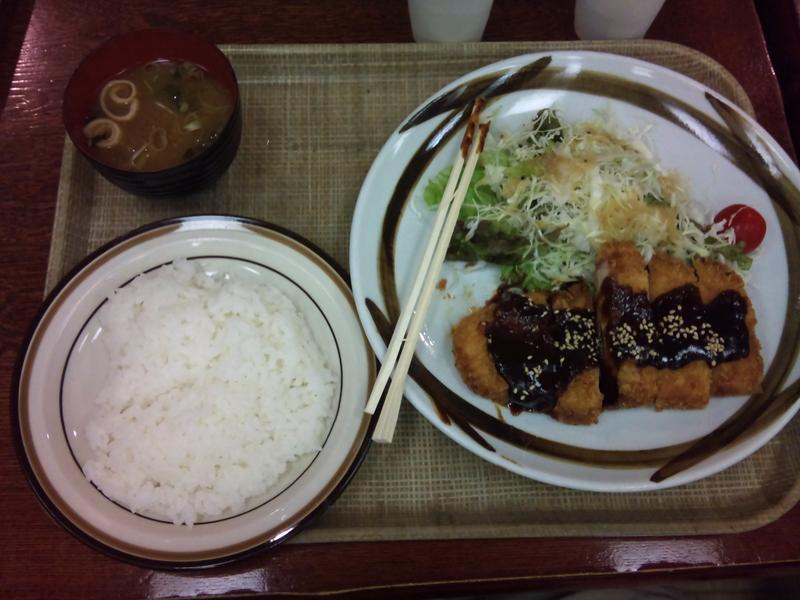rice: (65, 262, 339, 524)
